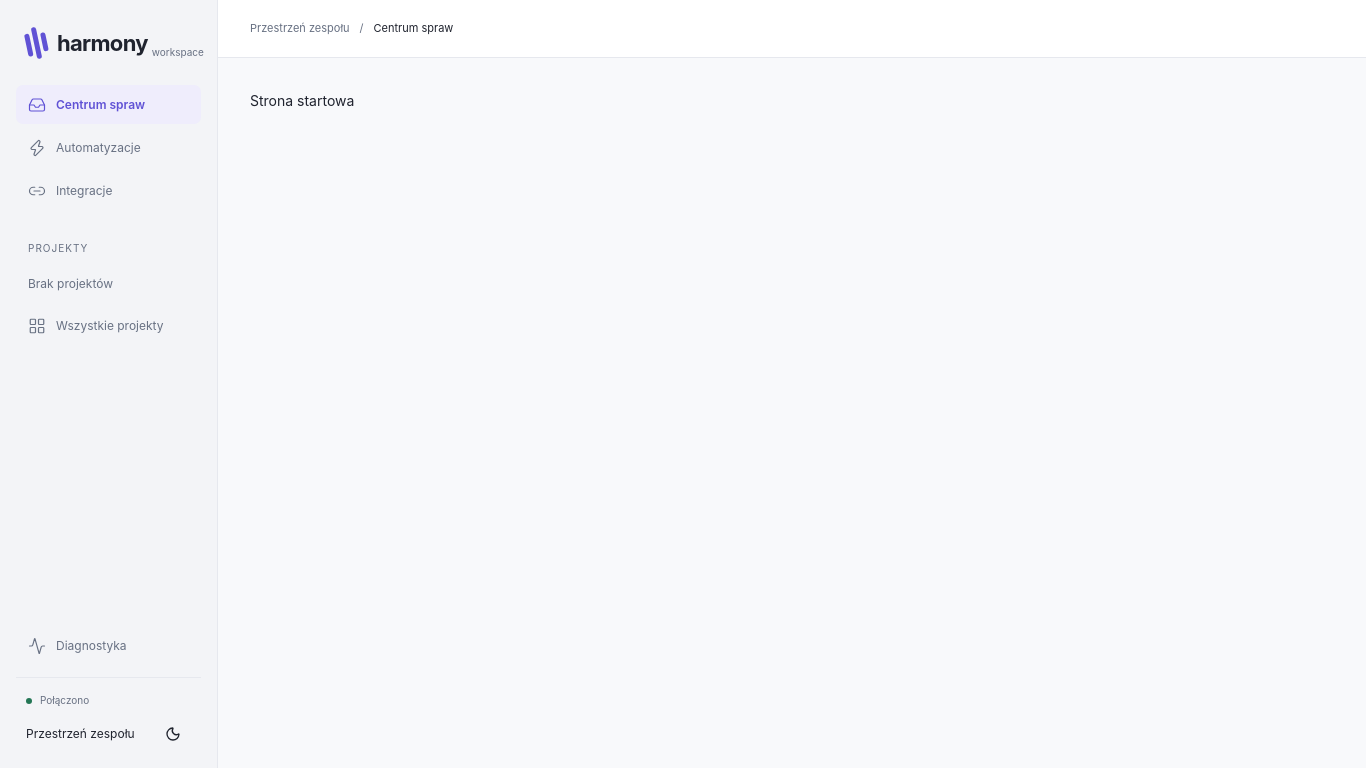
Test: AppShell › keeps layout A in dark mode instead of switching to another concept
The image size is (1366, 768).
Click the button named "Włącz tryb ciemny" at (173, 734), box [155,716,191,752]
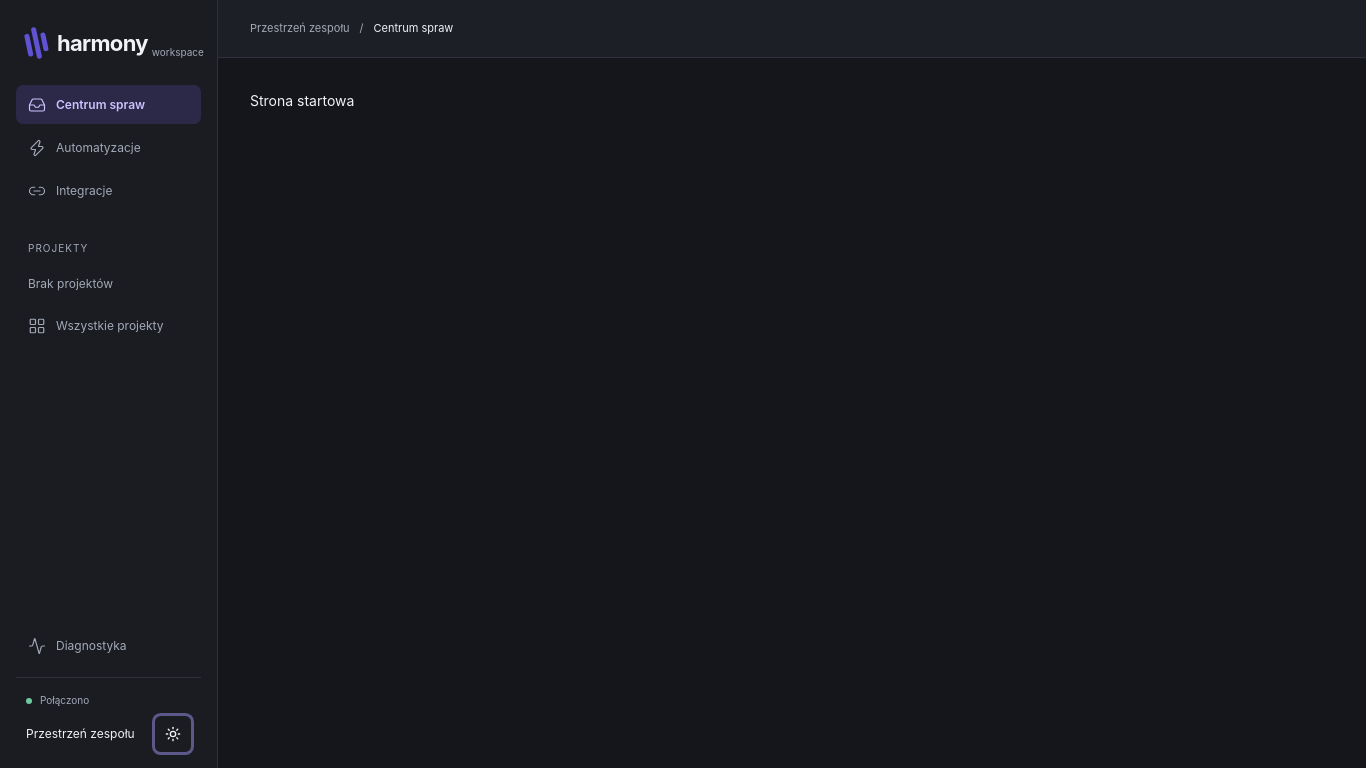
expect the button named "Włącz tryb jasny" is shown: met, box [155,716,191,752]
